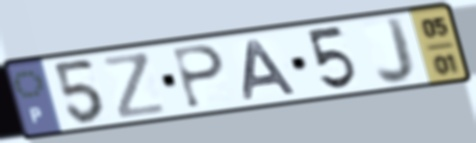5: (50, 55, 107, 128), (305, 22, 359, 93)
A: (242, 37, 300, 102)
J: (374, 15, 419, 87)
P: (169, 42, 228, 111)
Z: (99, 49, 171, 121)
